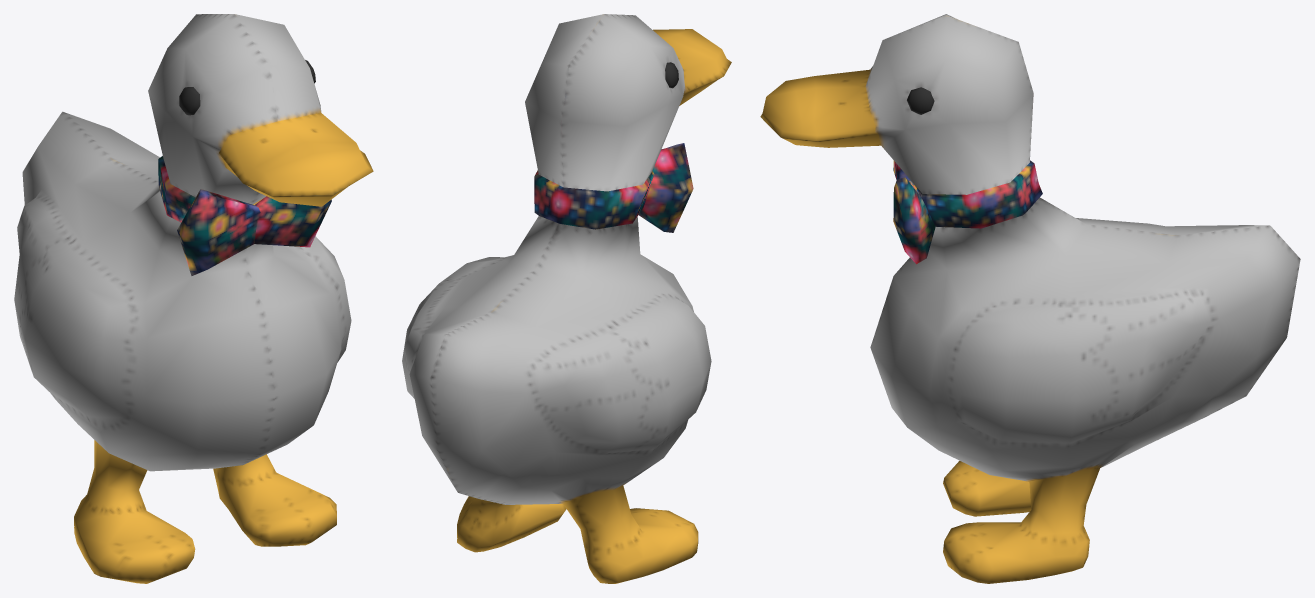
Rendered from duck-plush-886b9a.glb.
3 renders of one model, left to right at view 1: azimuth 30°, elevation 25°; view 2: azimuth 150°, elevation 25°; view 3: azimuth 270°, elevation 25°, orthographic. The views are drawn at different scales.
Parts seen in each view (by area): view 1: PropMesh; view 2: PropMesh; view 3: PropMesh.
Boxes of the visible parts, x1,y1,x2,y2 form: PropMesh: (14, 14, 373, 583); PropMesh: (402, 14, 731, 583); PropMesh: (760, 14, 1300, 583).
Size of the model in its own units: 0.2099 by 0.4 by 0.3711.
1 material, 1 textured.
